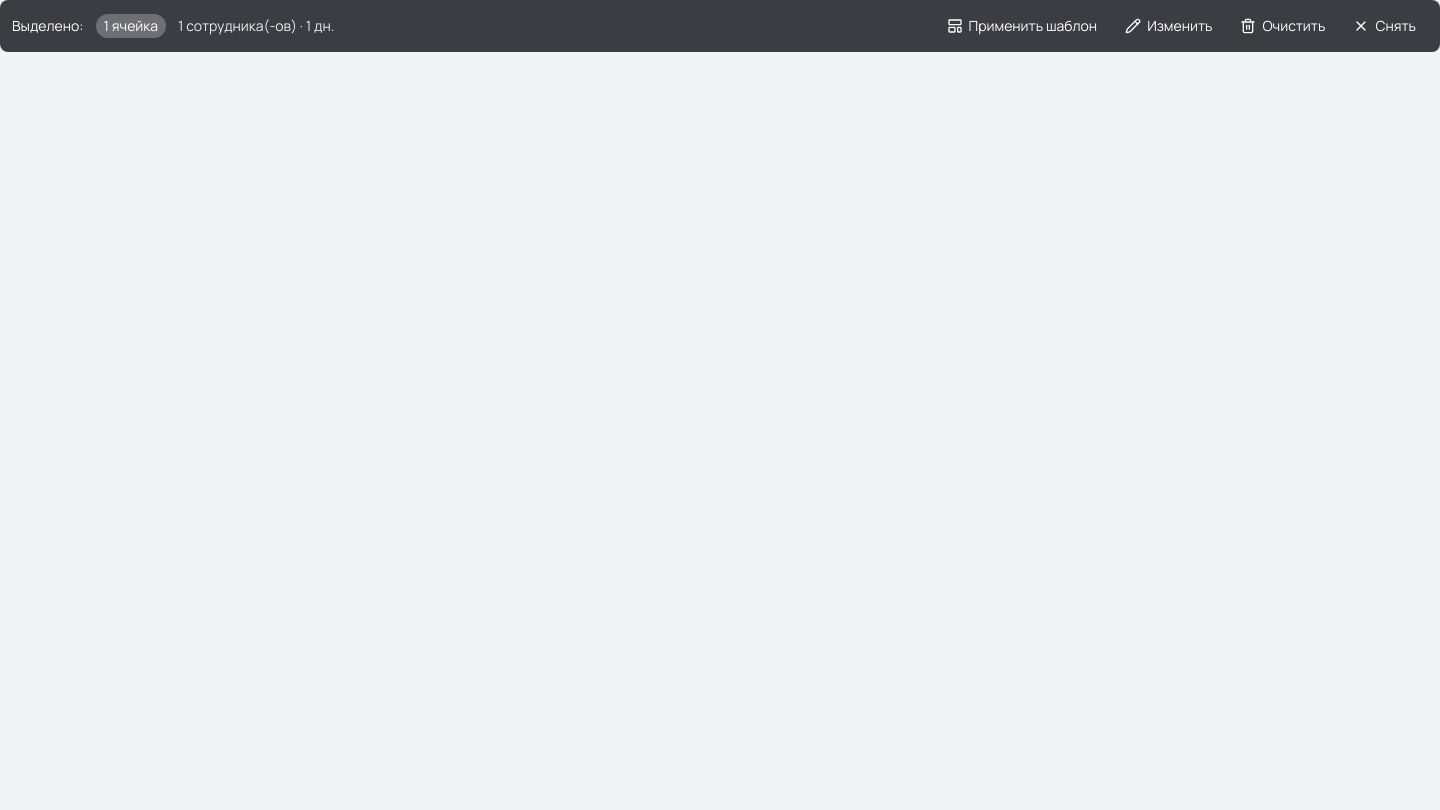
Test: SelectionToolbar: изменить время › одинаковые начало и конец — ошибка, применить нельзя
Click the button with aria-label "Изменить время": (1169, 26) x1=1113 y1=10 x2=1224 y2=42
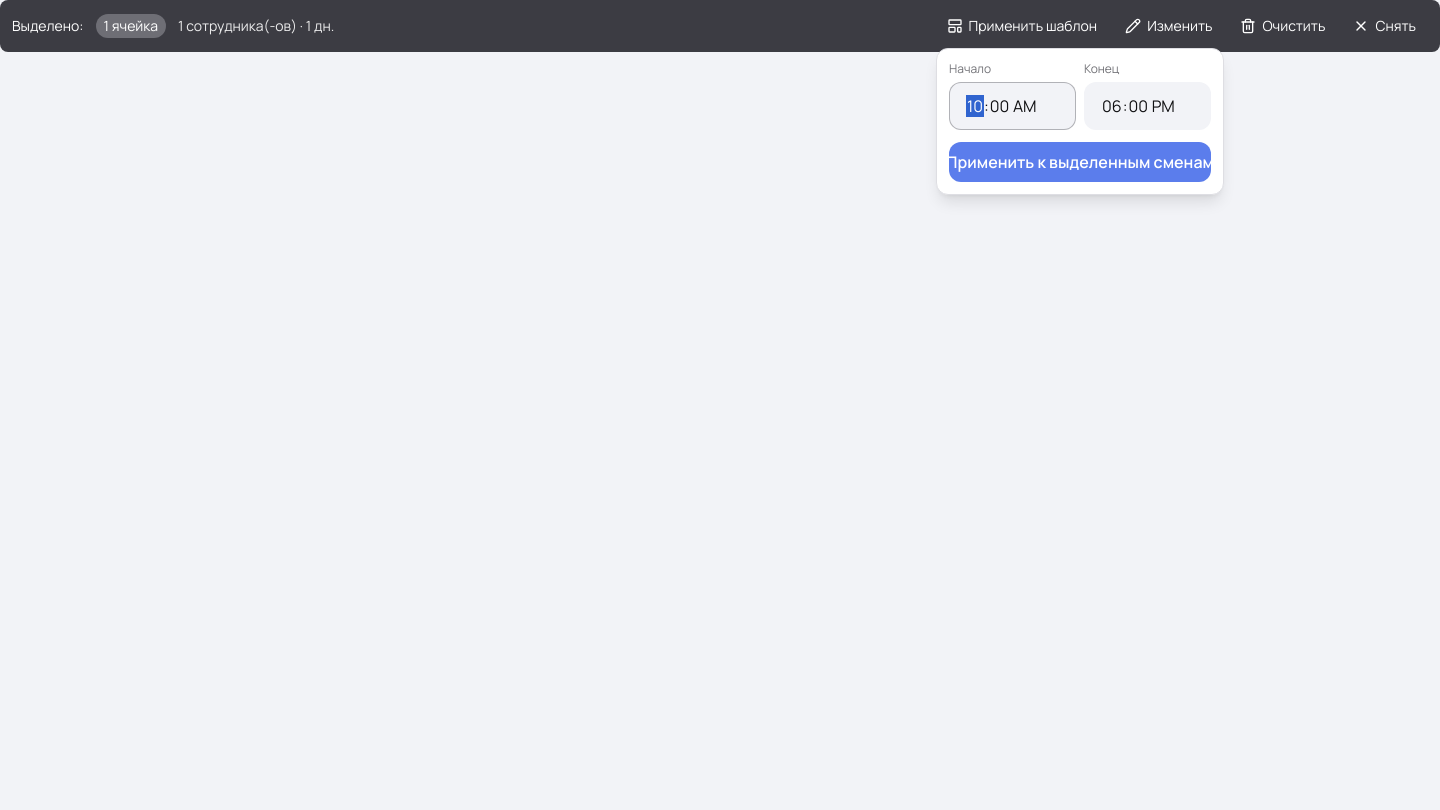
Replace the text in the time field labelled "Конец" with "10:00": (1148, 106) x1=1084 y1=82 x2=1211 y2=130
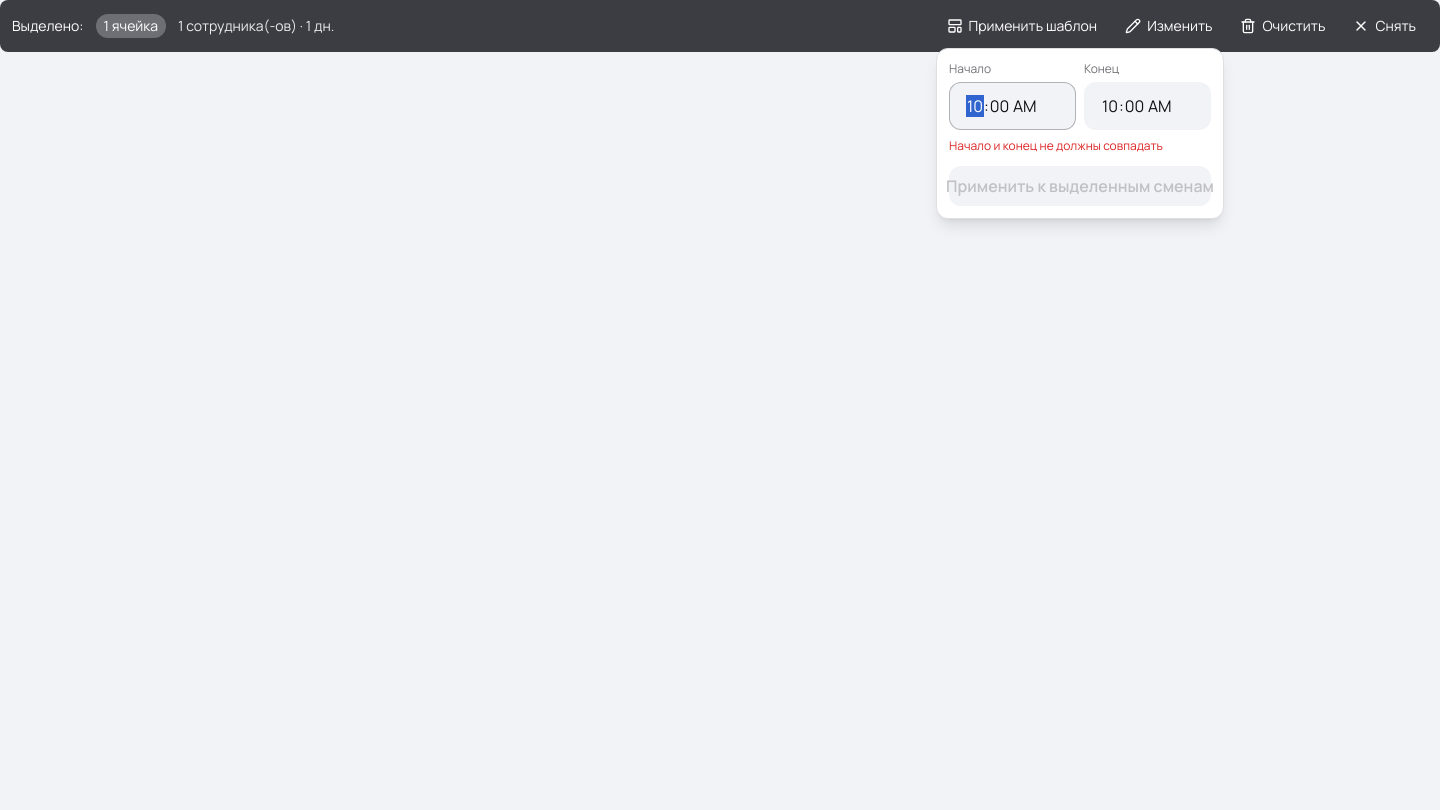
Result: the text "Начало и конец не должны совпадать" is shown at x1=949 y1=137 x2=1163 y2=154
Result: the button "Применить к выделенным сменам" is disabled at x1=949 y1=166 x2=1211 y2=206
